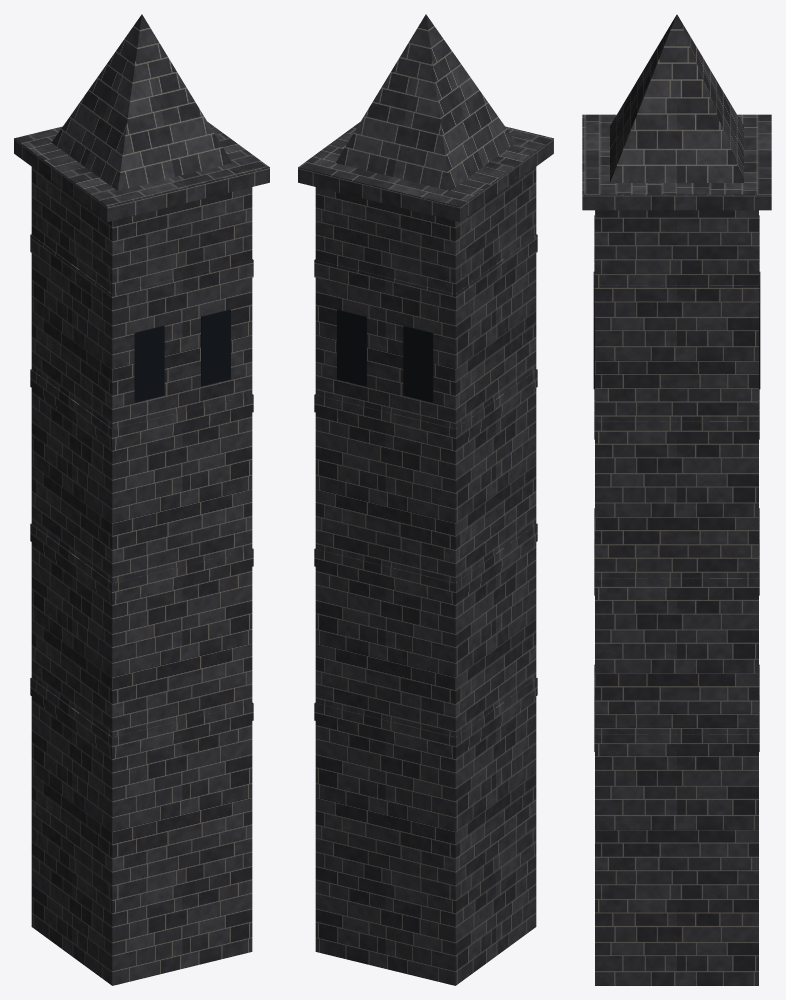
File: DiyarbakirLandmarks.fbx
3 views of the same model, side by side, from view 1: azimuth 30°, elevation 25°; view 2: azimuth 150°, elevation 25°; view 3: azimuth 270°, elevation 25° (orthographic).
Parts seen in each view (by area): view 1: Landmark_UluCamiMinaret; view 2: Landmark_UluCamiMinaret; view 3: Landmark_UluCamiMinaret.
Part boxes in pixels (x1,y1,x2,y2): Landmark_UluCamiMinaret: (14,14,269,985); Landmark_UluCamiMinaret: (298,14,553,985); Landmark_UluCamiMinaret: (582,14,771,985).
Size of the model in its own units: 4.4 by 24 by 4.4.
